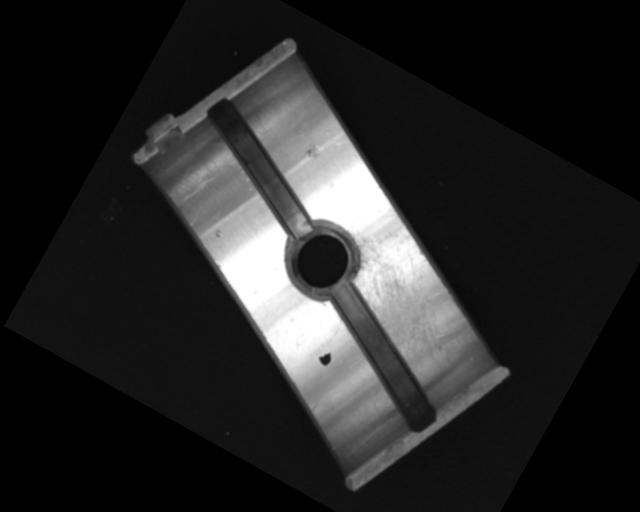blot: (315, 347, 335, 368)
bruise: (303, 140, 324, 162), (212, 227, 225, 240)
gap: (293, 277, 473, 436), (175, 93, 347, 242)
hole: (274, 209, 371, 310)
nick: (172, 164, 215, 215)
scratch: (305, 195, 491, 375)
